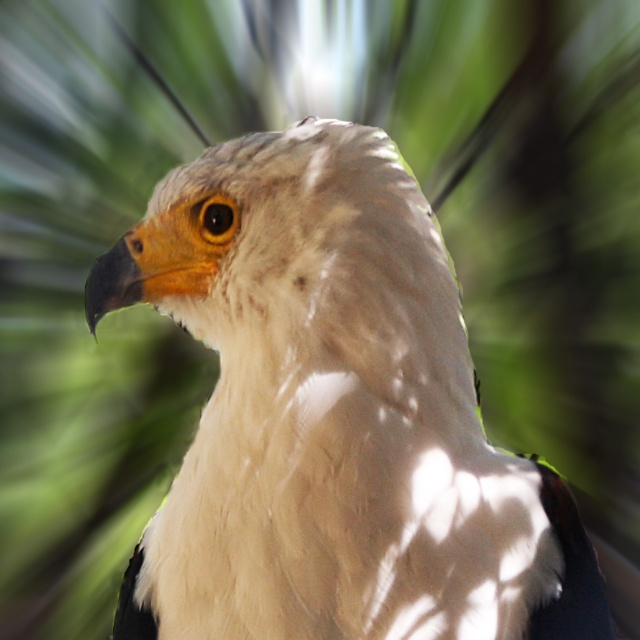Eagle: (86, 113, 599, 639)
